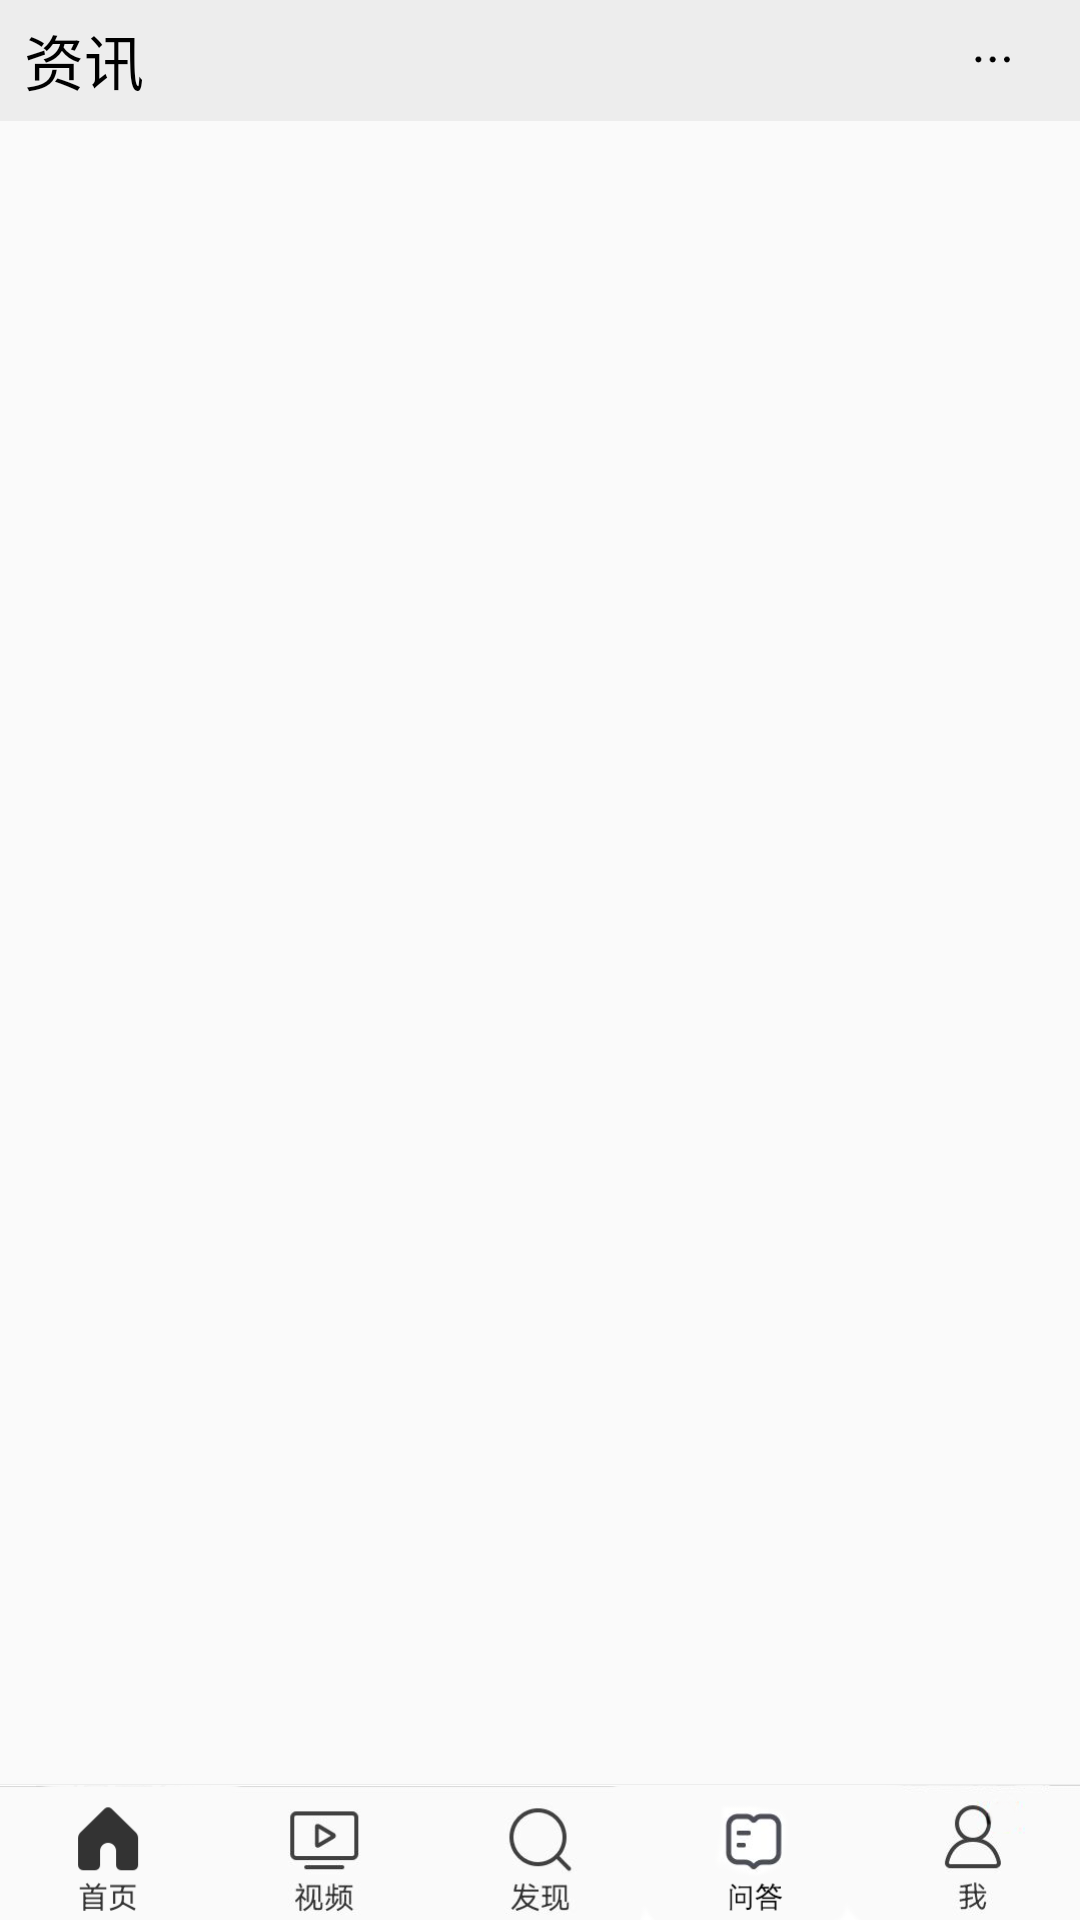

Point at icon controls on the screen. Image size 1080*1920, points as (x,y).
menu: (992,59)
